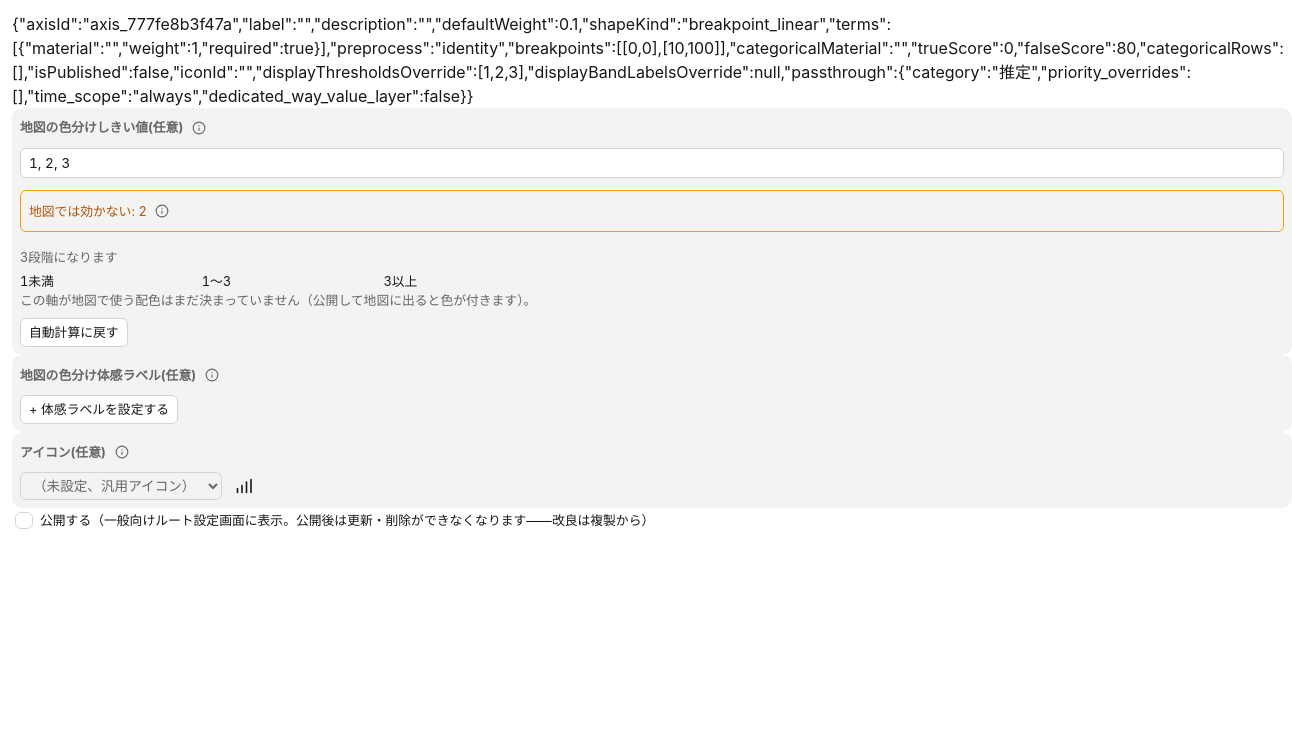
色分けしきい値 › 地図で段にならない値があれば、入力欄の下で名指しする。入力が読めない間は出さない
This screenshot has width=1292, height=732.
Check: the text "地図では効かない: 2" is shown, box [29,202,146,221]
Type "x" into the field named "色分けのしきい値（まとめて入力）" at {"x": 652, "y": 163}, box [20,148,1284,178]
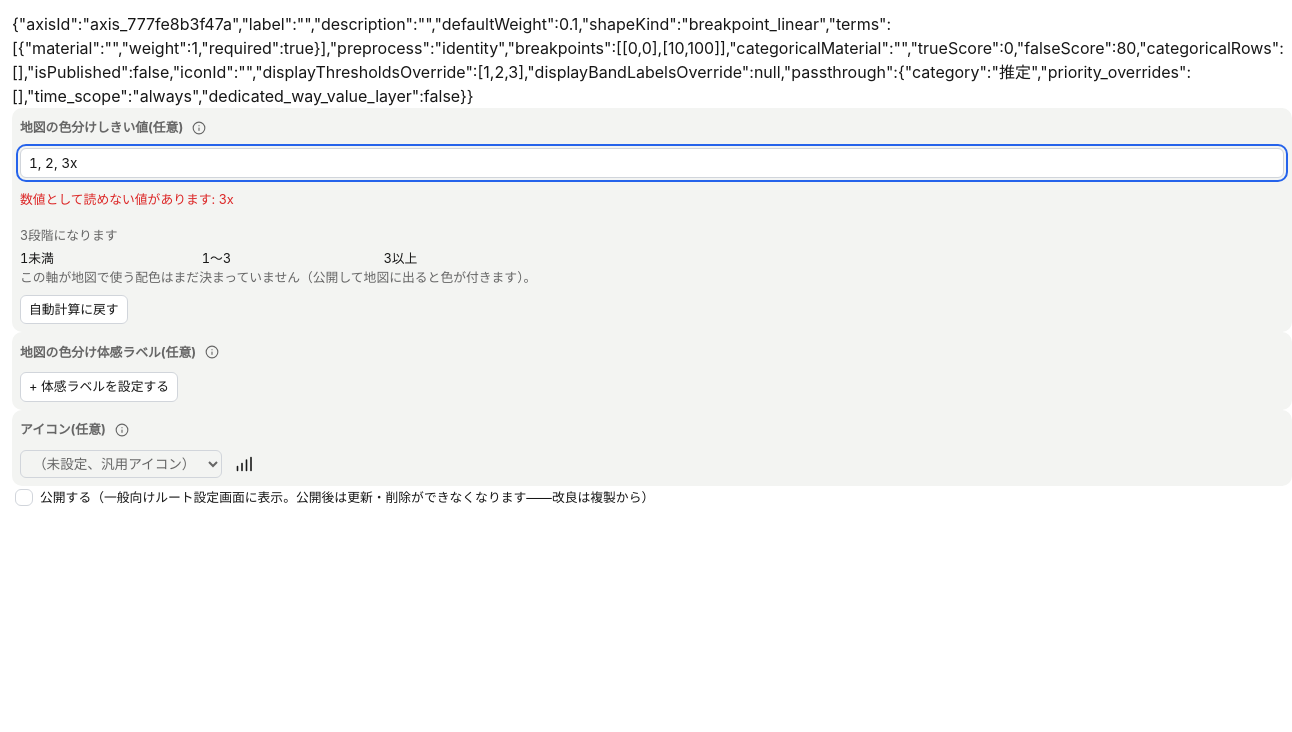
Check: the text "地図では効かない" is gone
